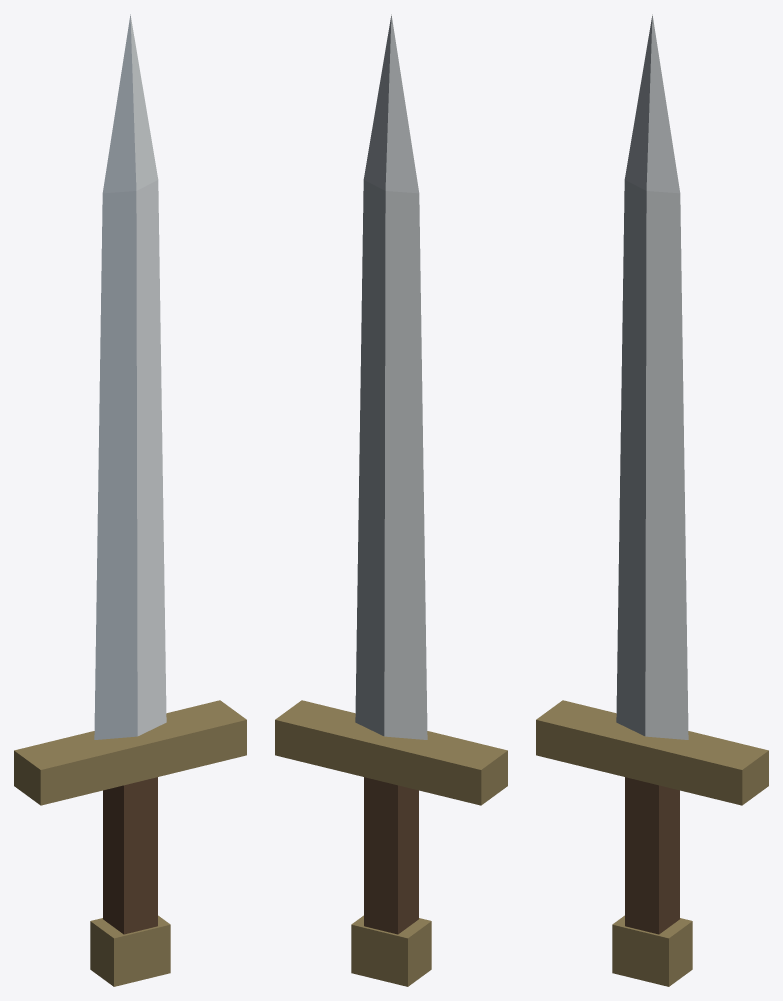
The model's file is SoldierSidearm.glb.
The picture shows the model from 3 angles, left to right: view 1: azimuth 30°, elevation 25°; view 2: azimuth 150°, elevation 25°; view 3: azimuth 330°, elevation 25°; orthographic projection.
Visible parts, largest first — view 1: SoldierSidearm; view 2: SoldierSidearm; view 3: SoldierSidearm.
Boxes of the visible parts, x1=… form: SoldierSidearm: x1=14, y1=14, x2=246, y2=986; SoldierSidearm: x1=275, y1=14, x2=507, y2=986; SoldierSidearm: x1=536, y1=14, x2=768, y2=986.
Size of the model in its own units: 0.2 by 0.8875 by 0.045.
